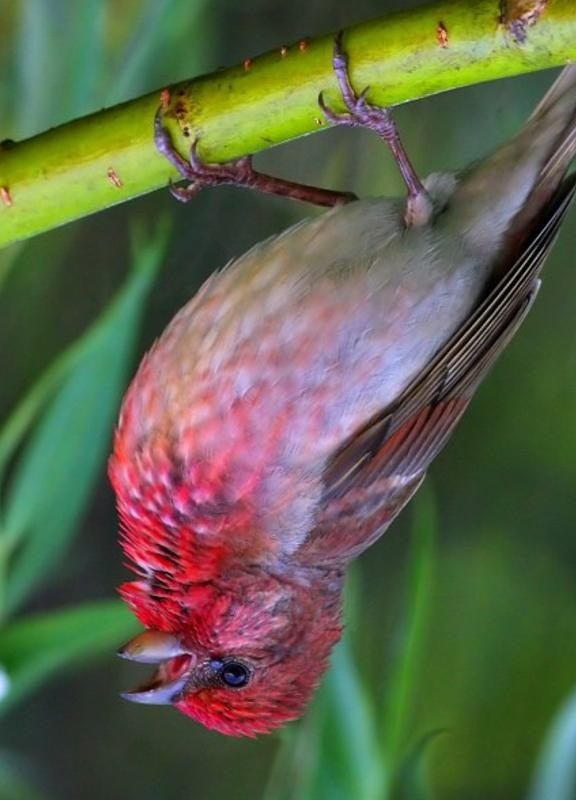rosefinch: (110, 101, 576, 761)
